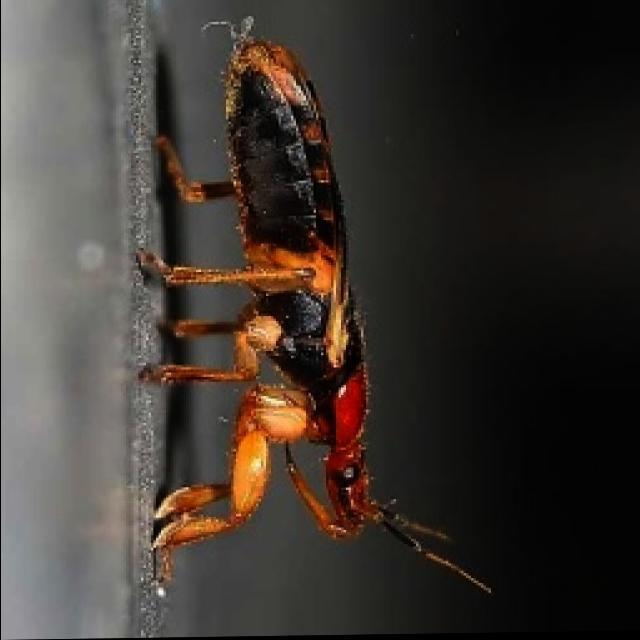cockroach: (131, 14, 497, 601)
